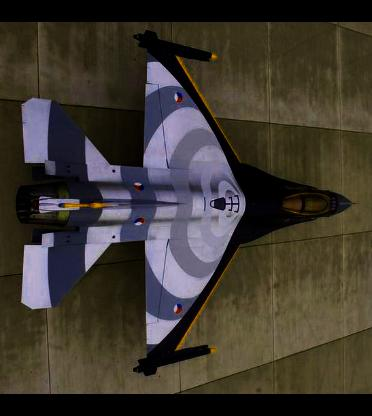F14: (15, 29, 357, 377)
